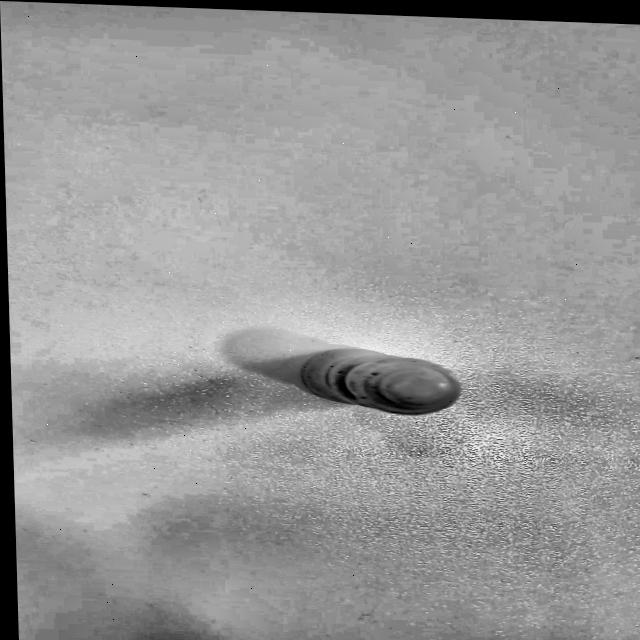white-queen: (290, 325, 493, 427)
